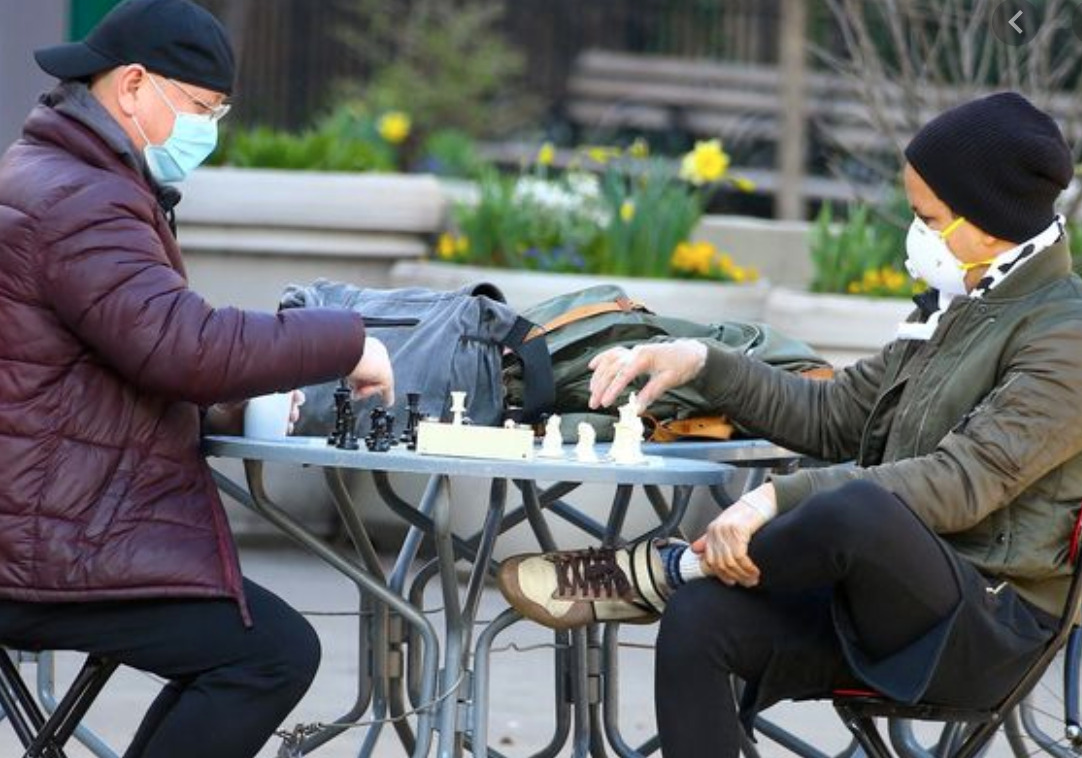Caution: (6, 1, 1082, 758)
